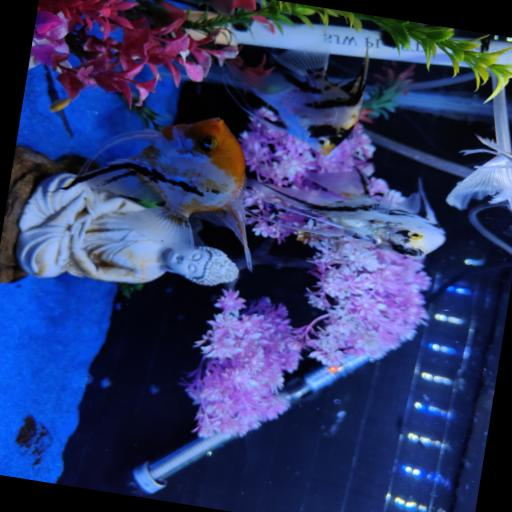Fish: (68, 117, 251, 269), (247, 170, 444, 257), (231, 49, 368, 154), (446, 135, 511, 208)
